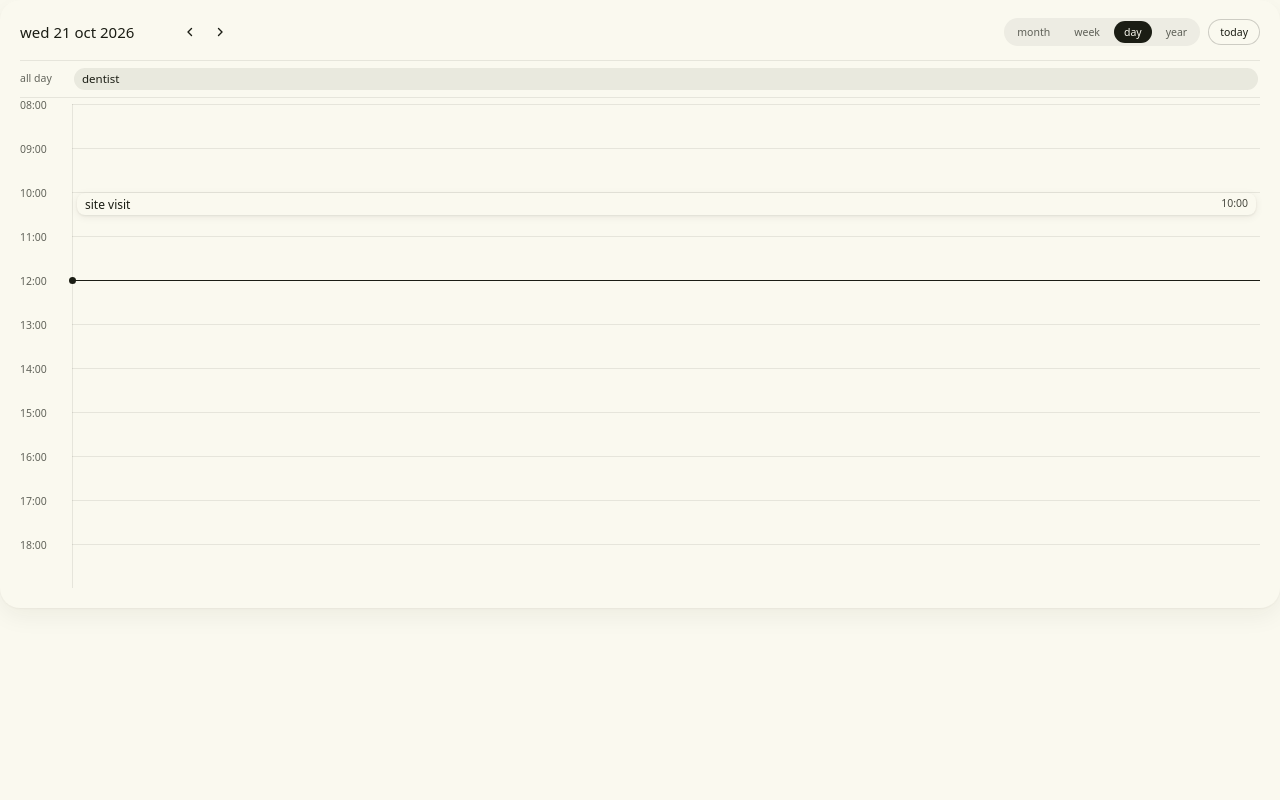
Test: day body (KAN-455) › draws the now line only on today, and not once the clock leaves 08:00–19:00
This screenshot has width=1280, height=800.
Click the button named "Next day" at coordinates (220, 32), box [206, 18, 234, 46]
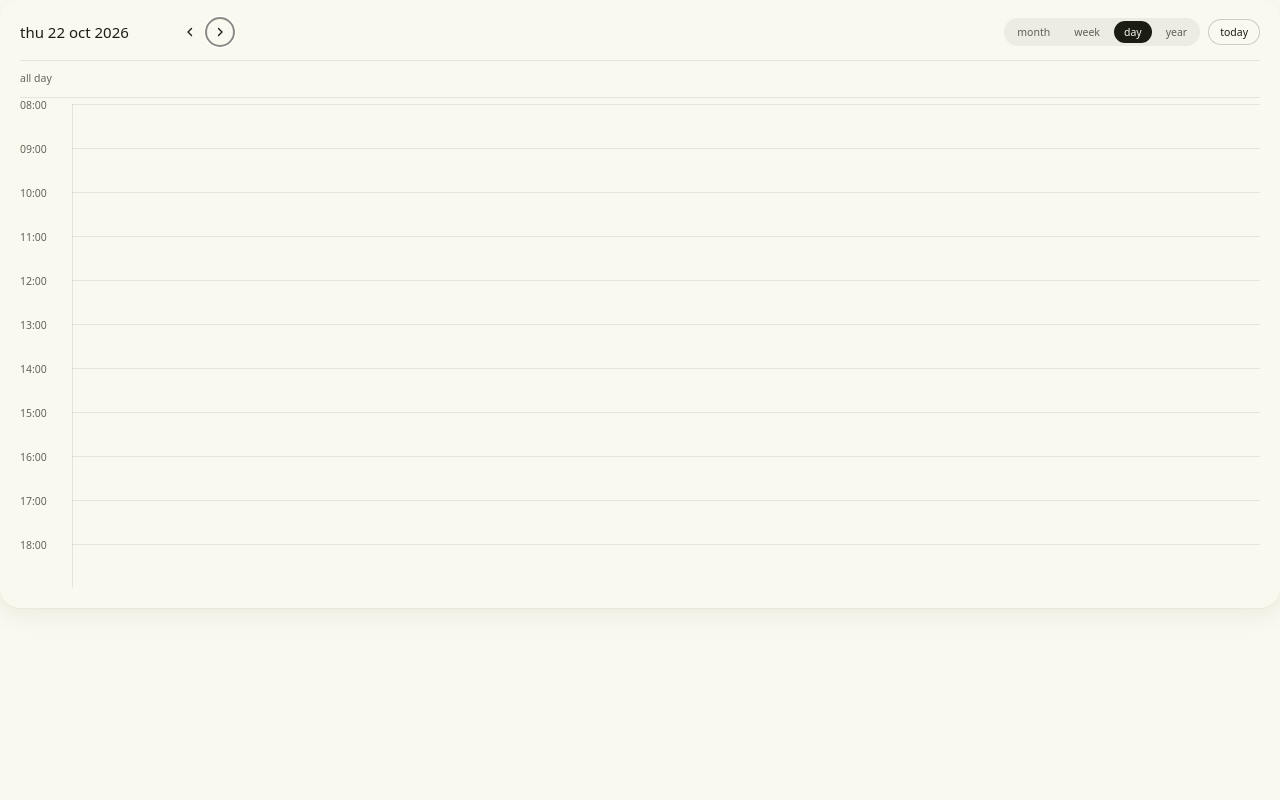
Expected: the text "thu 22 oct 2026" is shown, [20, 22, 129, 42]
